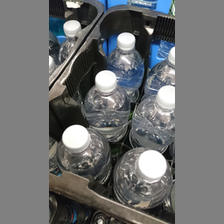water: (78, 61, 130, 142), (112, 146, 172, 211), (56, 119, 111, 183), (127, 84, 175, 157), (104, 30, 145, 102)
